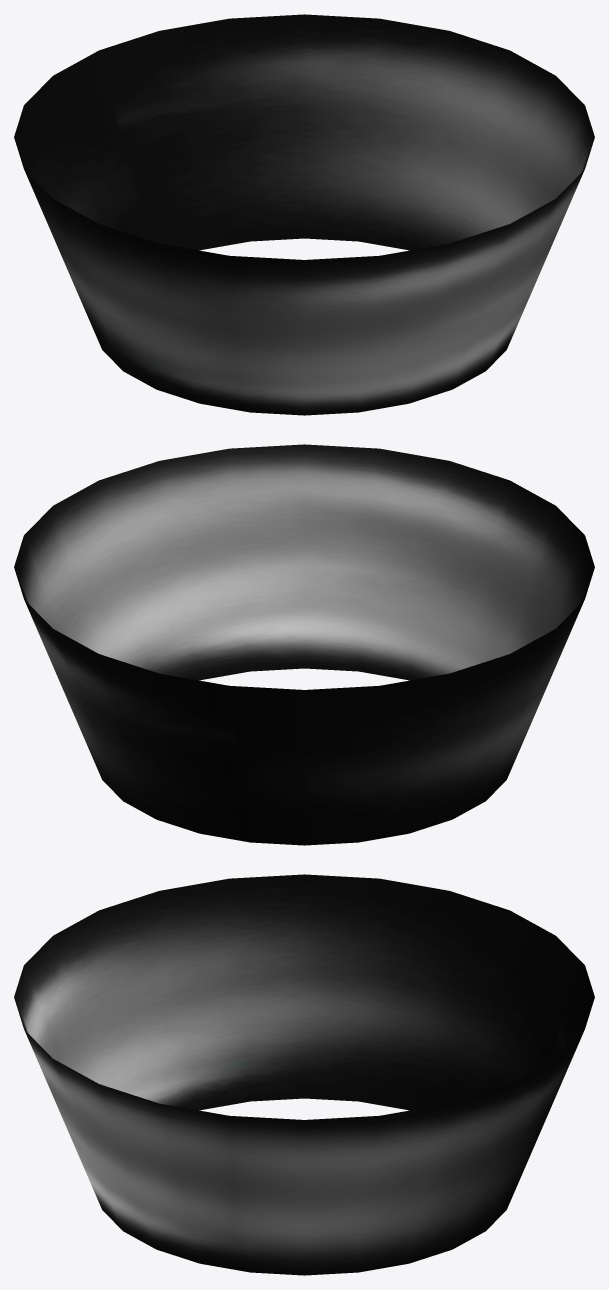
Rendered from 0246_changjing_ring_z01.glb.
3 renders of one model, top to bottom at view 1: azimuth 30°, elevation 25°; view 2: azimuth 150°, elevation 25°; view 3: azimuth 270°, elevation 25°, orthographic.
Size of the model in its own units: 2.2 by 0.7931 by 2.2.
Materials: 1 (1 with a texture image).
